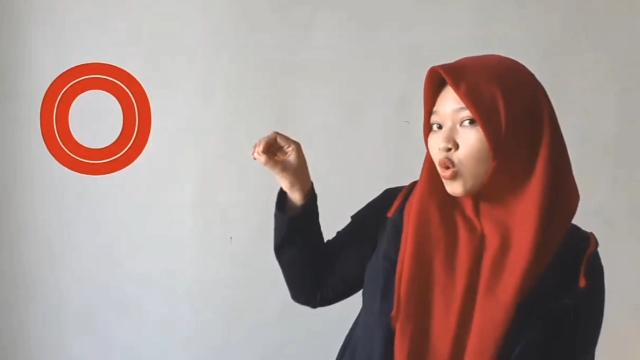O: (252, 130, 314, 200)
